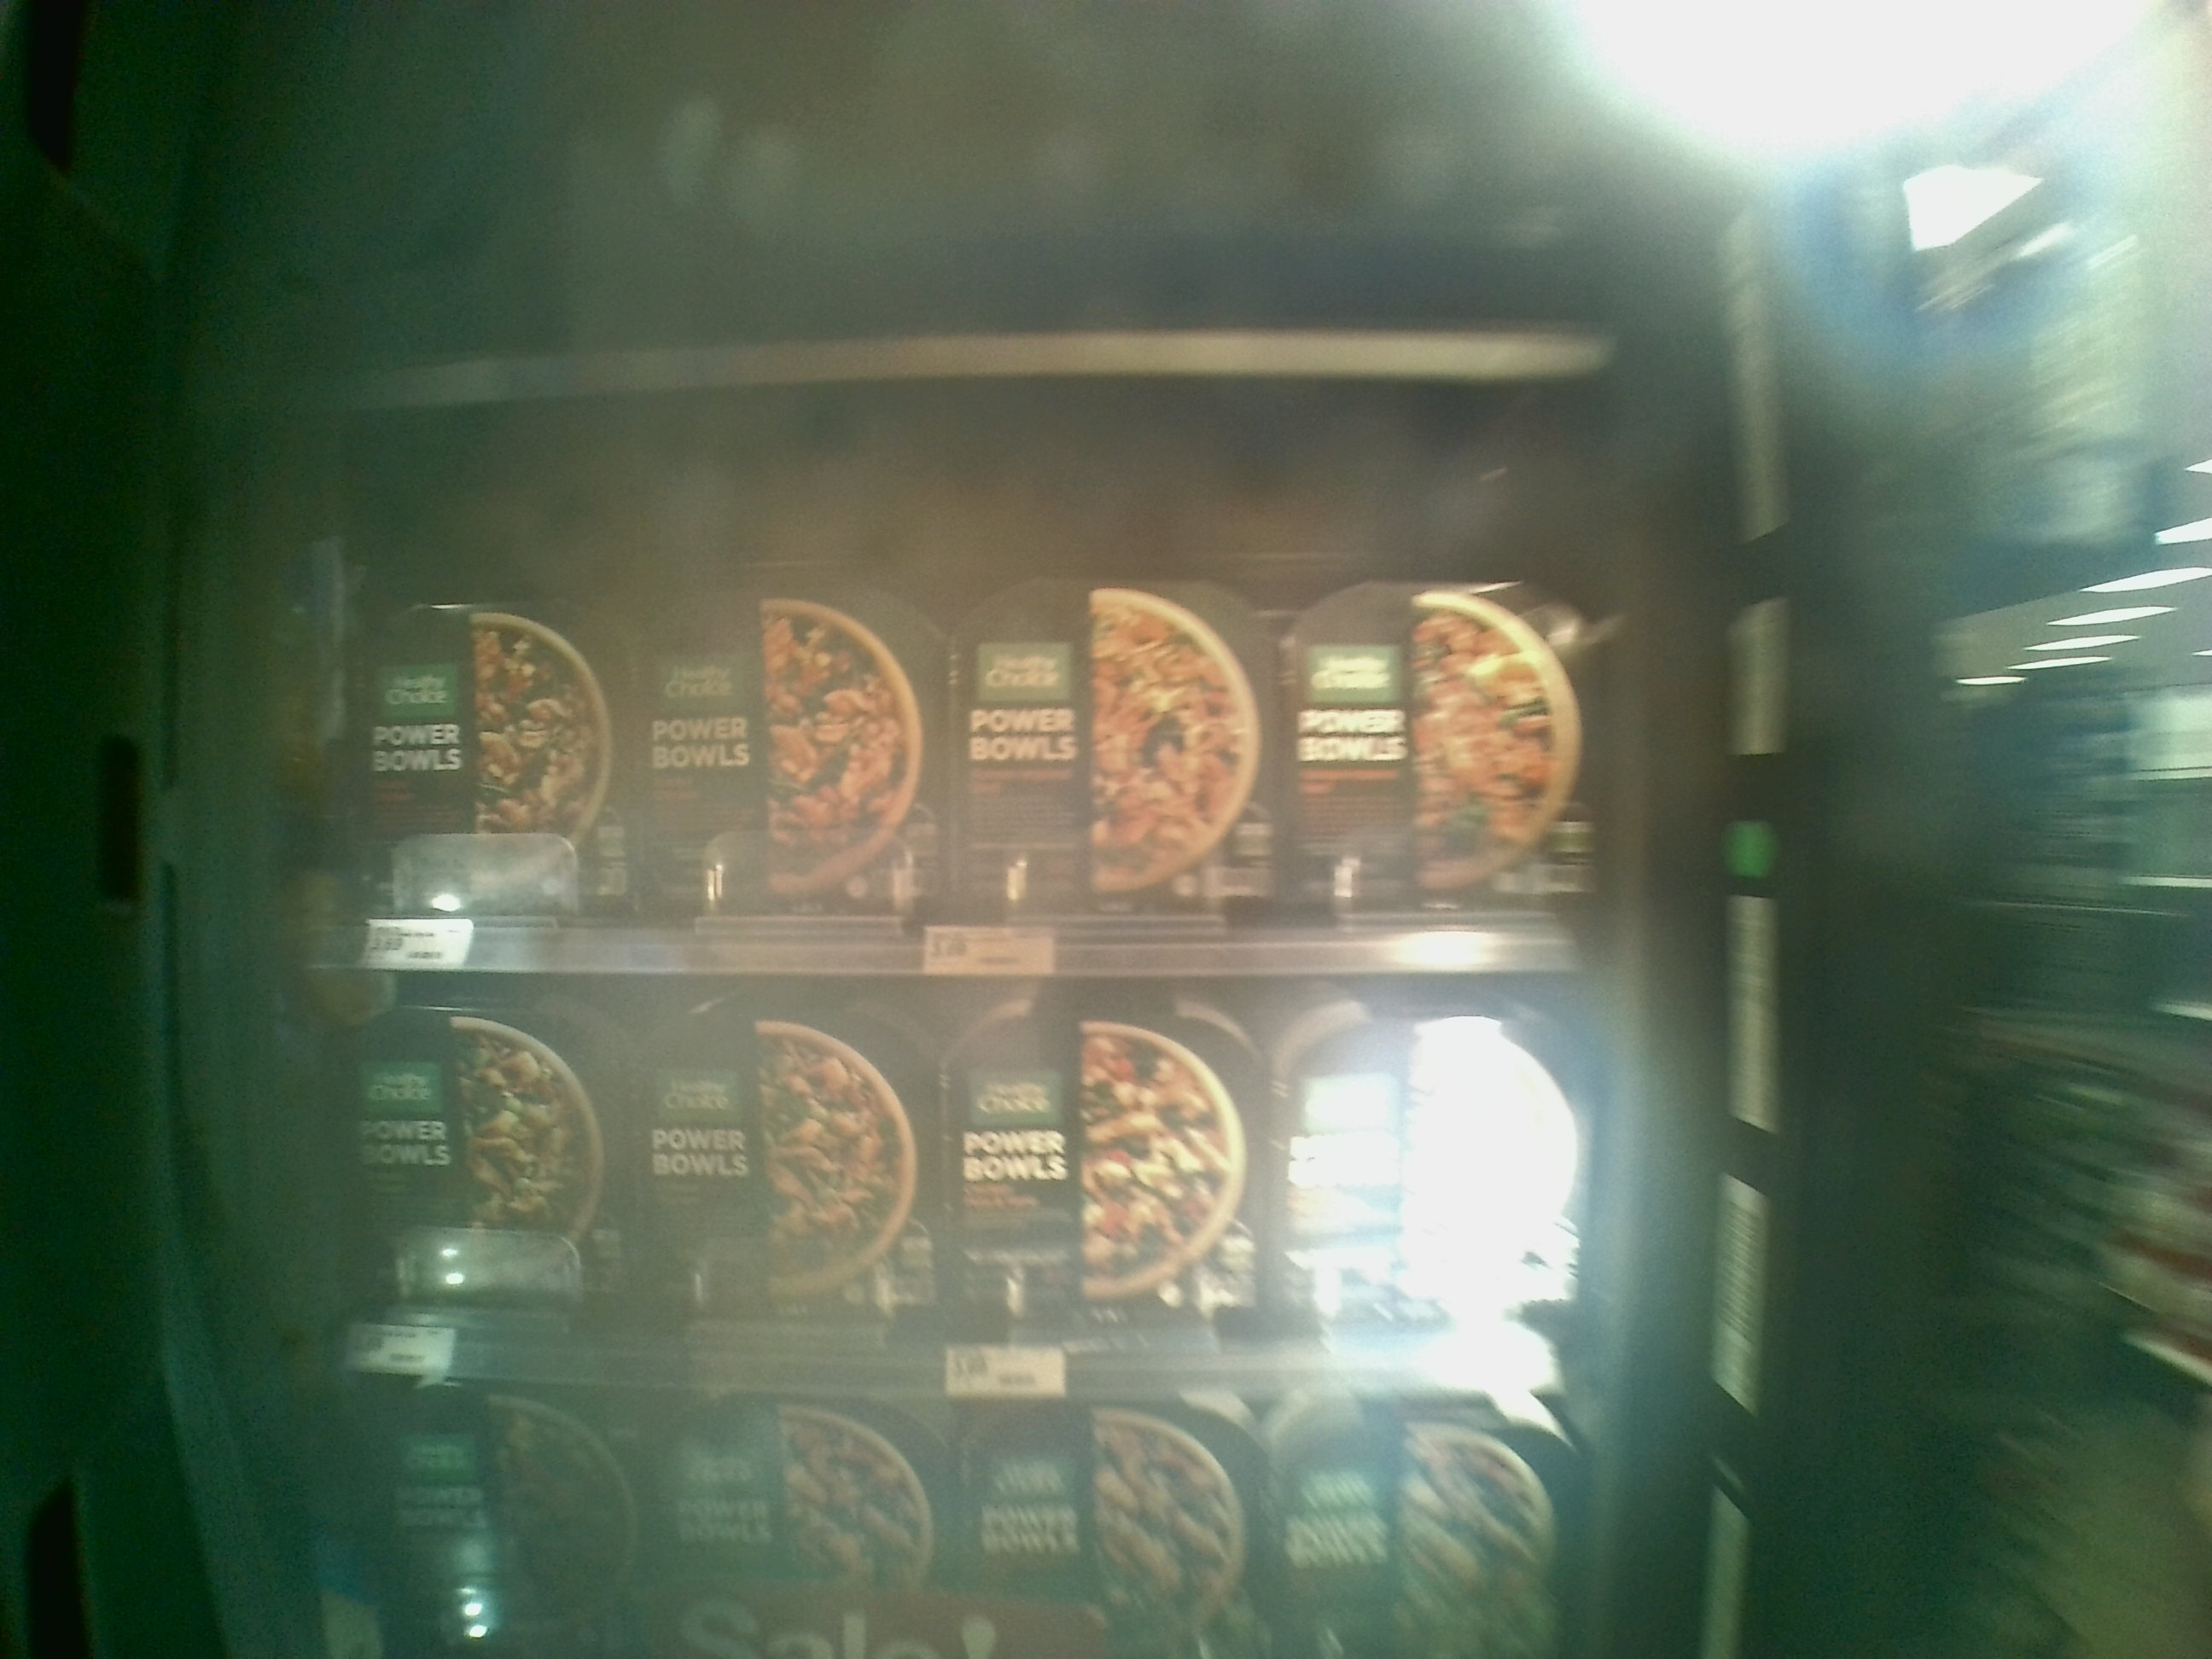shelf: (275, 352, 1611, 974), (280, 974, 1606, 1410)
